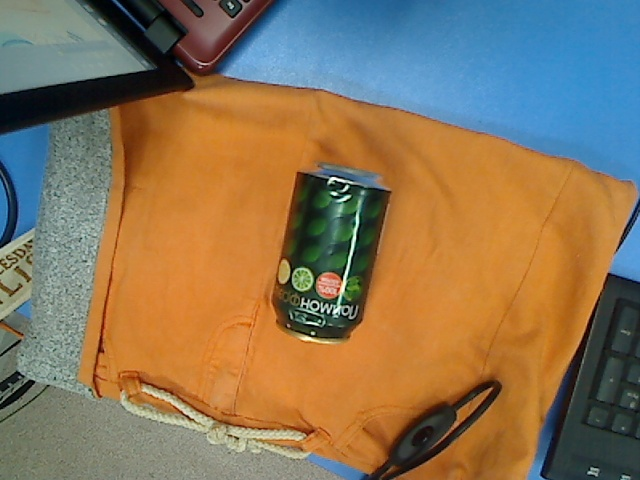can: (270, 159, 395, 346)
